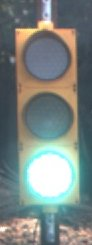Green: (13, 20, 92, 216)
